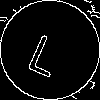L: (25, 25, 69, 78)
